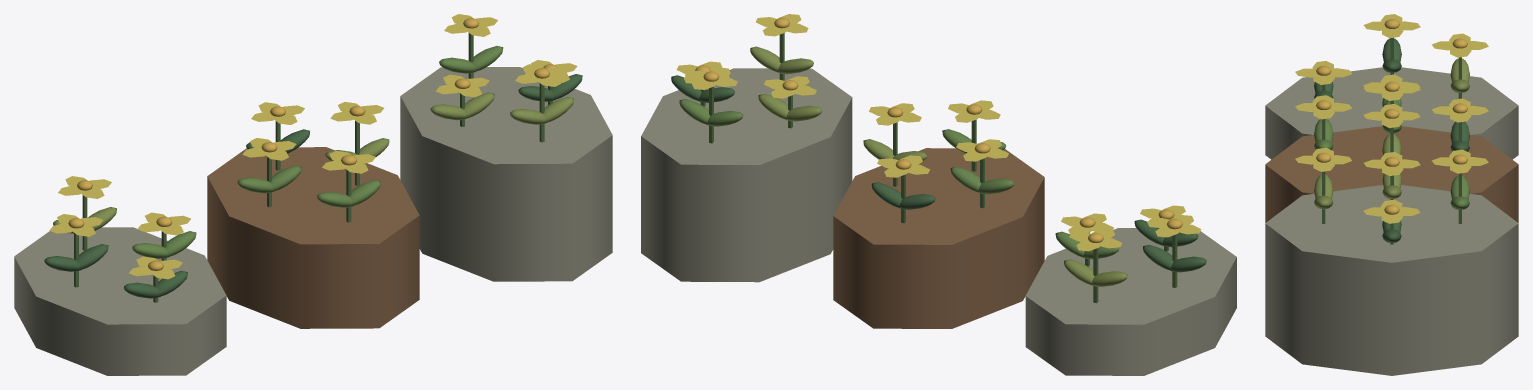
The picture shows the model from 3 angles, left to right: view 1: azimuth 30°, elevation 25°; view 2: azimuth 150°, elevation 25°; view 3: azimuth 270°, elevation 25°; orthographic projection. The views are drawn at different scales.
Visible parts, largest first — view 1: climb-flowers-6-2, climb-flowers-6-1, climb-flowers-6-0, 화단 07; view 2: climb-flowers-6-2, climb-flowers-6-1, climb-flowers-6-0, 화단 07; view 3: climb-flowers-6-2, 화단 07, climb-flowers-6-1, climb-flowers-6-0.
Part boxes in pixels (x1,y1,x2,y2): climb-flowers-6-2: (400, 67, 612, 281); climb-flowers-6-1: (207, 147, 419, 328); climb-flowers-6-0: (14, 227, 226, 375); 화단 07: (44, 14, 582, 302); climb-flowers-6-2: (641, 68, 852, 282); climb-flowers-6-1: (833, 148, 1044, 328); climb-flowers-6-0: (1025, 228, 1236, 375); 화단 07: (671, 14, 1206, 303); climb-flowers-6-2: (1265, 185, 1518, 375); 화단 07: (1295, 14, 1488, 244); climb-flowers-6-1: (1265, 126, 1518, 222); climb-flowers-6-0: (1265, 67, 1518, 159).
Bounding box in the file's own units: 3.16 × 1.03 × 1.3.
